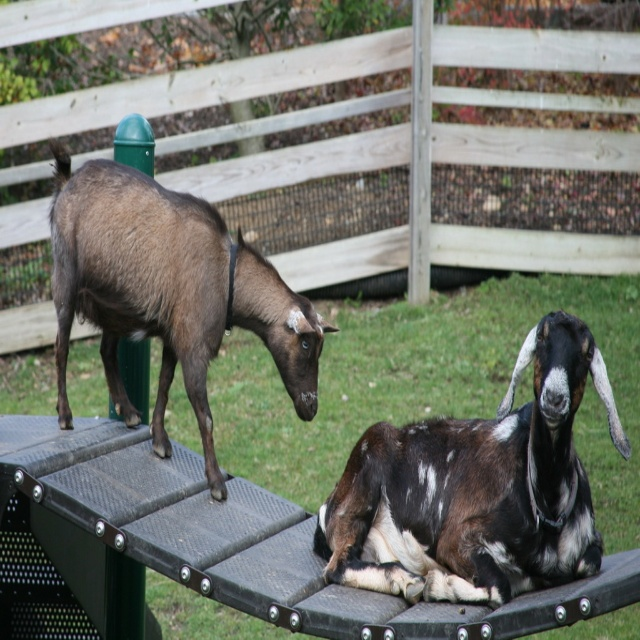Goat: (46, 136, 339, 504), (314, 308, 631, 607)
